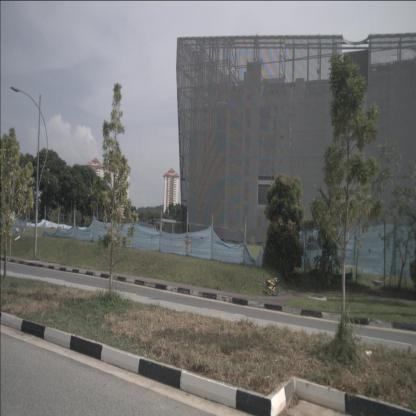vehicle-bicycle: (262, 273, 281, 296)
